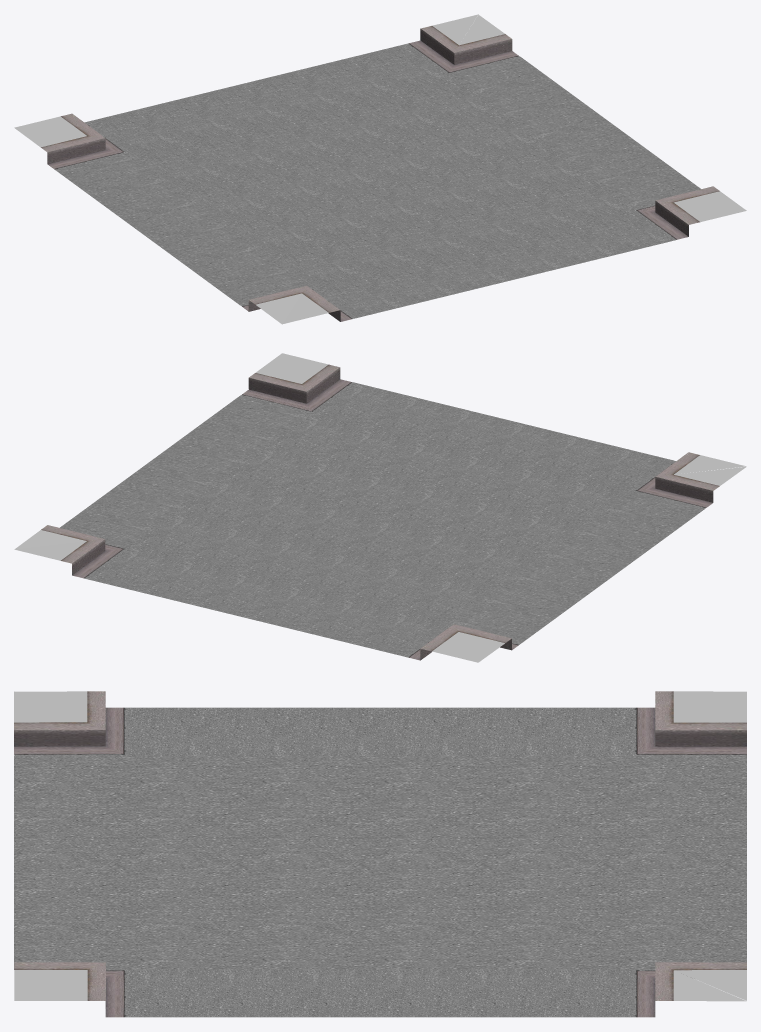
Rendered from roada7.dae.
3 views of the same model, one above another, from view 1: azimuth 30°, elevation 25°; view 2: azimuth 150°, elevation 25°; view 3: azimuth 270°, elevation 25° (orthographic). The views are drawn at different scales.
Parts seen in each view (by area): view 1: S_Object_001_6, S_Object_001, S_Object_001_1, S_Object_001_2, S_Object_001_3, S_Object_001_4; view 2: S_Object_001_6, S_Object_001, S_Object_001_1, S_Object_001_2, S_Object_001_3, S_Object_001_4; view 3: S_Object_001_6, S_Object_001, S_Object_001_1, S_Object_001_3, S_Object_001_2, S_Object_001_4.
Boxes of the visible parts, left/top/right/bottom form: S_Object_001_6: left=56, top=44, right=700, bottom=318; S_Object_001: left=14, top=14, right=746, bottom=324; S_Object_001_1: left=41, top=26, right=719, bottom=312; S_Object_001_2: left=47, top=28, right=688, bottom=321; S_Object_001_3: left=47, top=40, right=688, bottom=321; S_Object_001_4: left=84, top=43, right=676, bottom=318; S_Object_001_6: left=60, top=382, right=704, bottom=656; S_Object_001: left=14, top=353, right=746, bottom=662; S_Object_001_1: left=41, top=364, right=719, bottom=651; S_Object_001_2: left=72, top=367, right=713, bottom=660; S_Object_001_3: left=72, top=379, right=712, bottom=660; S_Object_001_4: left=84, top=382, right=705, bottom=657; S_Object_001_6: left=14, top=707, right=746, bottom=1017; S_Object_001: left=14, top=691, right=746, bottom=1001; S_Object_001_1: left=14, top=691, right=746, bottom=1000; S_Object_001_3: left=14, top=707, right=746, bottom=1017; S_Object_001_2: left=14, top=730, right=746, bottom=1008; S_Object_001_4: left=14, top=707, right=746, bottom=1017.
Bounding box in the file's own units: 2 × 0.05 × 2.
